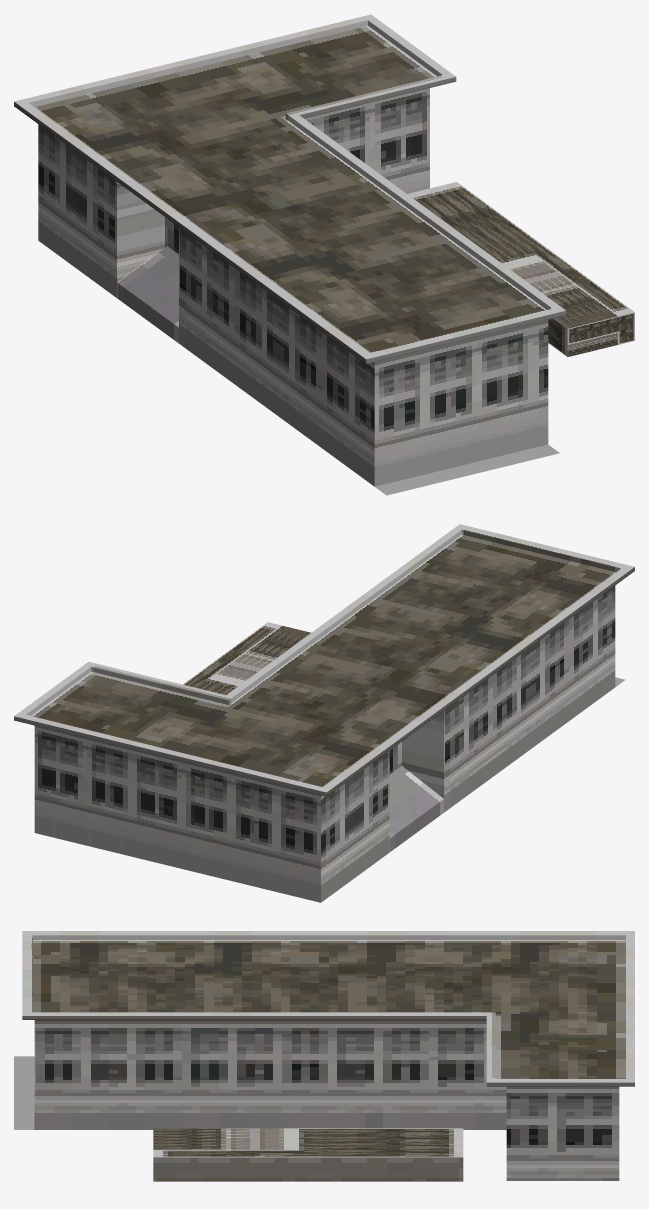
File: lodshop2_sfs.obj
3 renders of one model, top to bottom at view 1: azimuth 30°, elevation 25°; view 2: azimuth 150°, elevation 25°; view 3: azimuth 270°, elevation 25°, orthographic. The views are drawn at different scales.
Parts seen in each view (by area): view 1: LODshop2_SFS; view 2: LODshop2_SFS; view 3: LODshop2_SFS.
Boxes of the visible parts, left/top/right/bottom form: LODshop2_SFS: left=14, top=14, right=634, bottom=495; LODshop2_SFS: left=14, top=524, right=634, bottom=902; LODshop2_SFS: left=14, top=931, right=634, bottom=1181.
Bounding box in the file's own units: 36.07 × 13.16 × 62.48.
5 materials, 5 textured.
